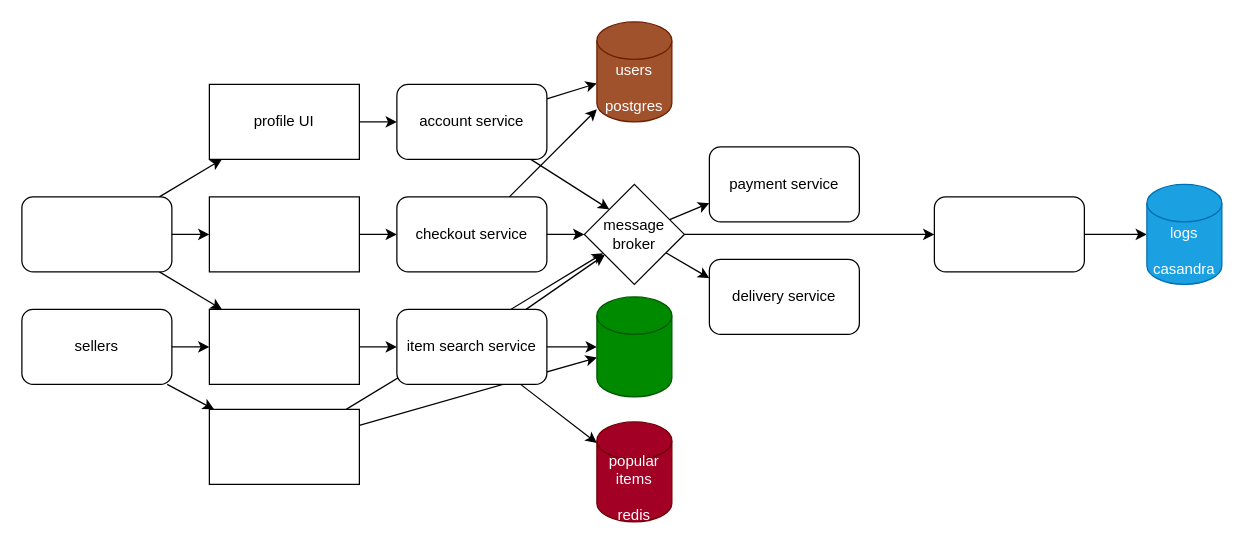
This 1244x545 diagram has some shape labels left out. Here are the shapes that lost their labels. From the top down, the centre of each, then its label:
[96,234]: users
[283,234]: checkout UI
[1008,234]: logging service
[283,346]: item UI
[634,346]: items mongo
[283,446]: managment UI
